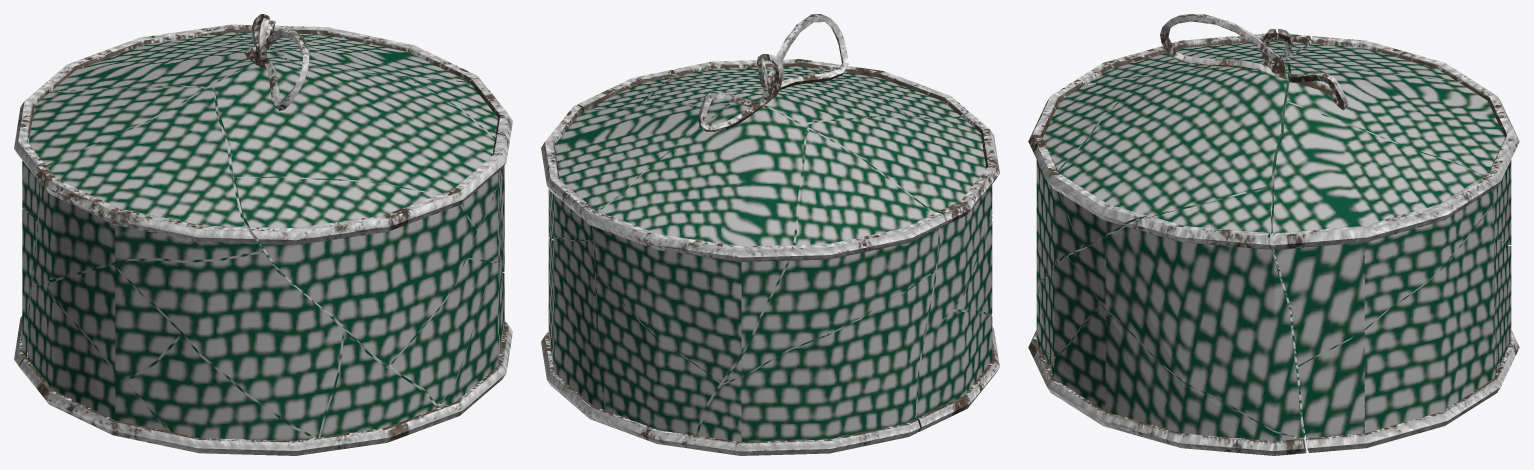
The model's file is crabCage-broken.fbx.
3 renders of one model, left to right at view 1: azimuth 30°, elevation 25°; view 2: azimuth 150°, elevation 25°; view 3: azimuth 270°, elevation 25°, orthographic. The views are drawn at different scales.
Visible parts, largest first — view 1: 贝塞尔曲线.019, 贝塞尔曲线.030, 贝塞尔曲线.016, 贝塞尔曲线.029, 贝塞尔曲线.017, 贝塞尔曲线.008, 贝塞尔曲线.023, 贝塞尔曲线.026, 贝塞尔曲线.028, 贝塞尔曲线.011, 贝塞尔曲线.022, 贝塞尔曲线.012 (+10 smaller); view 2: 贝塞尔曲线.022, 贝塞尔曲线.023, 贝塞尔曲线.013, 贝塞尔曲线.016, 贝塞尔曲线.021, 贝塞尔曲线.009, 贝塞尔曲线.006, 贝塞尔曲线.019, 贝塞尔曲线.014, 贝塞尔曲线.007, 贝塞尔曲线.026, 贝塞尔曲线.001 (+8 smaller); view 3: 贝塞尔曲线.018, 贝塞尔曲线.021, 贝塞尔曲线.019, 贝塞尔曲线.014, 贝塞尔曲线.022, 贝塞尔曲线.024, 贝塞尔曲线.006, 贝塞尔曲线.030, 贝塞尔曲线.008, 贝塞尔曲线.001, 贝塞尔曲线.025, 贝塞尔曲线.007 (+9 smaller).
Part boxes in pixels (left/top/right/bottom): 贝塞尔曲线.019: left=214, top=63, right=498, bottom=229; 贝塞尔曲线.030: left=235, top=177, right=477, bottom=365; 贝塞尔曲线.016: left=31, top=86, right=262, bottom=284; 贝塞尔曲线.029: left=115, top=253, right=342, bottom=437; 贝塞尔曲线.017: left=128, top=335, right=320, bottom=440; 贝塞尔曲线.008: left=19, top=320, right=512, bottom=455; 贝塞尔曲线.023: left=22, top=87, right=203, bottom=219; 贝塞尔曲线.026: left=28, top=283, right=168, bottom=431; 贝塞尔曲线.028: left=47, top=265, right=180, bottom=379; 贝塞尔曲线.011: left=33, top=89, right=435, bottom=435; 贝塞尔曲线.022: left=51, top=32, right=290, bottom=91; 贝塞尔曲线.012: left=320, top=332, right=437, bottom=436; 贝塞尔曲线.022: left=593, top=104, right=807, bottom=382; 贝塞尔曲线.023: left=724, top=129, right=938, bottom=382; 贝塞尔曲线.013: left=696, top=272, right=935, bottom=441; 贝塞尔曲线.016: left=805, top=117, right=992, bottom=341; 贝塞尔曲线.021: left=548, top=104, right=730, bottom=240; 贝塞尔曲线.009: left=596, top=276, right=719, bottom=435; 贝塞尔曲线.006: left=541, top=105, right=945, bottom=261; 贝塞尔曲线.019: left=642, top=66, right=908, bottom=123; 贝塞尔曲线.014: left=548, top=238, right=605, bottom=409; 贝塞尔曲线.007: left=541, top=331, right=920, bottom=455; 贝塞尔曲线.026: left=915, top=311, right=992, bottom=417; 贝塞尔曲线.001: left=650, top=59, right=969, bottom=133; 贝塞尔曲线.018: left=1068, top=187, right=1303, bottom=437; 贝塞尔曲线.021: left=1272, top=102, right=1493, bottom=365; 贝塞尔曲线.019: left=1058, top=65, right=1288, bottom=247; 贝塞尔曲线.014: left=1298, top=205, right=1496, bottom=438; 贝塞尔曲线.022: left=1287, top=66, right=1511, bottom=244; 贝塞尔曲线.024: left=1050, top=306, right=1299, bottom=440; 贝塞尔曲线.006: left=1270, top=36, right=1519, bottom=249; 贝塞尔曲线.030: left=1036, top=75, right=1152, bottom=283; 贝塞尔曲线.008: left=1028, top=330, right=1306, bottom=455; 贝塞尔曲线.001: left=1028, top=73, right=1289, bottom=280; 贝塞尔曲线.025: left=1038, top=256, right=1100, bottom=366; 贝塞尔曲线.007: left=1305, top=330, right=1519, bottom=452.
Size of the model in its own units: 150 by 113 by 150.
